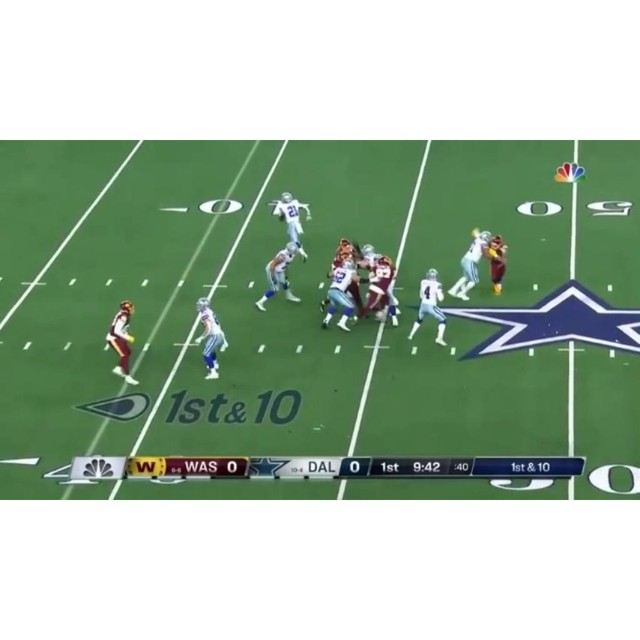american-football-player: (255, 241, 302, 312), (407, 268, 449, 346), (448, 228, 492, 300), (104, 301, 141, 385), (270, 191, 312, 261), (192, 299, 228, 379), (320, 258, 357, 332), (363, 256, 395, 325), (487, 234, 509, 296)
